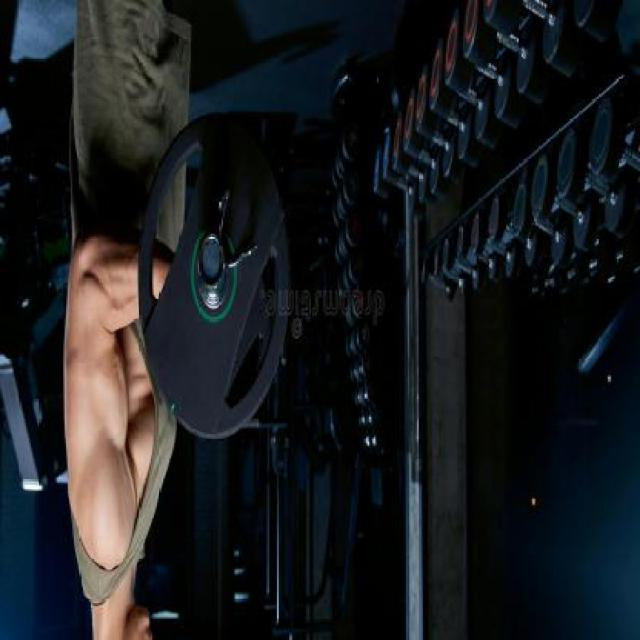Barbell: (196, 230, 227, 296)
